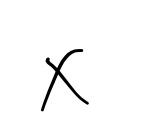mult: (41, 50, 89, 112)
